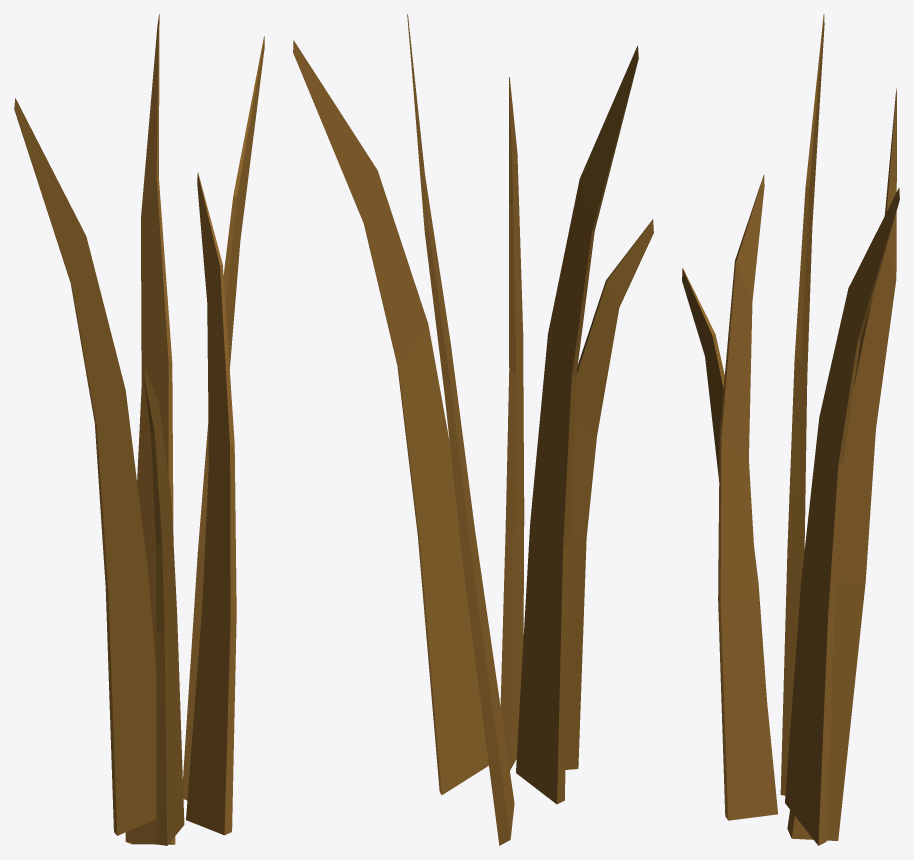
The model's file is PrairieTallGrass(3).fbx.
3 renders of one model, left to right at view 1: azimuth 30°, elevation 25°; view 2: azimuth 150°, elevation 25°; view 3: azimuth 270°, elevation 25°, orthographic. The views are drawn at different scales.
Visible parts, largest first — view 1: PrairieTallGrass(3); view 2: PrairieTallGrass(3); view 3: PrairieTallGrass(3).
Part boxes in pixels (left/top/right/bottom): PrairieTallGrass(3): left=14, top=14, right=264, bottom=845; PrairieTallGrass(3): left=293, top=14, right=653, bottom=845; PrairieTallGrass(3): left=682, top=14, right=899, bottom=845.
Bounding box in the file's own units: 1.47 × 3.88 × 0.9811.
